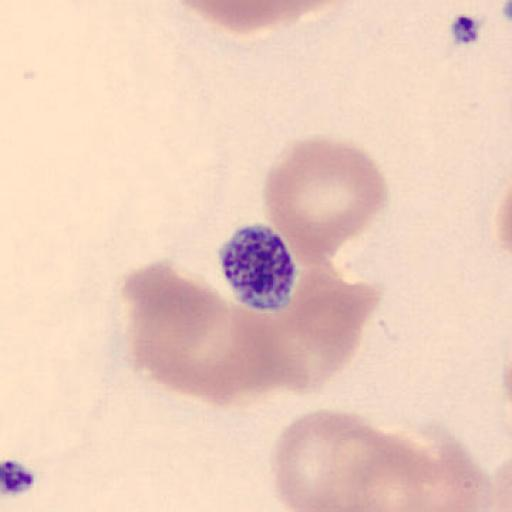Platelet: (217, 221, 299, 312)
RBC: (118, 259, 262, 404), (230, 262, 382, 396), (262, 134, 390, 264), (268, 407, 398, 512), (280, 264, 383, 393), (364, 423, 495, 512), (393, 447, 493, 512), (172, 0, 350, 35), (489, 454, 512, 512)
